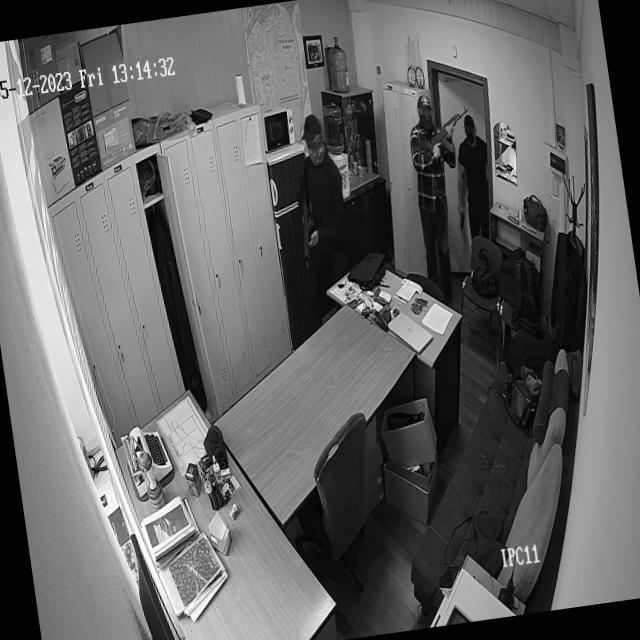gun: (422, 104, 472, 154), (296, 195, 320, 271), (457, 206, 468, 230)
person with a gun: (401, 92, 474, 290), (294, 114, 354, 280), (447, 112, 498, 245)
